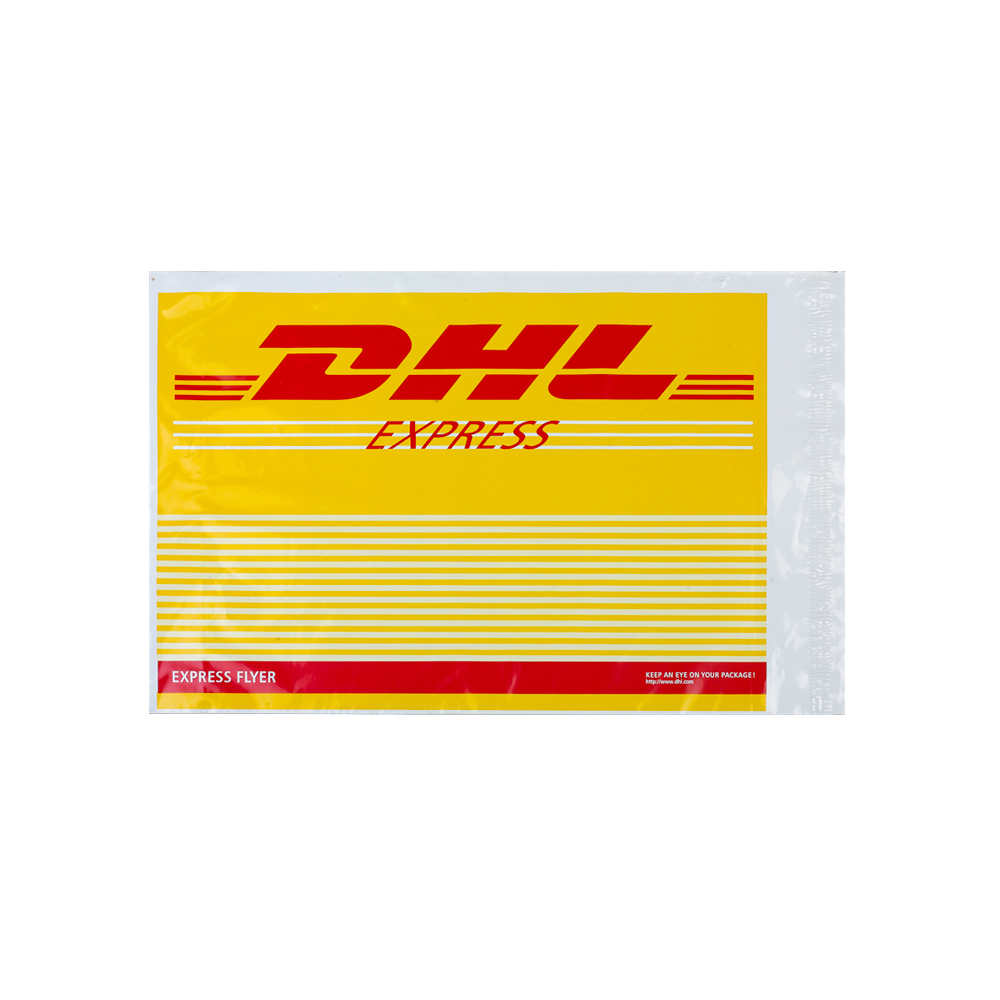Parcel: (148, 272, 844, 716)
